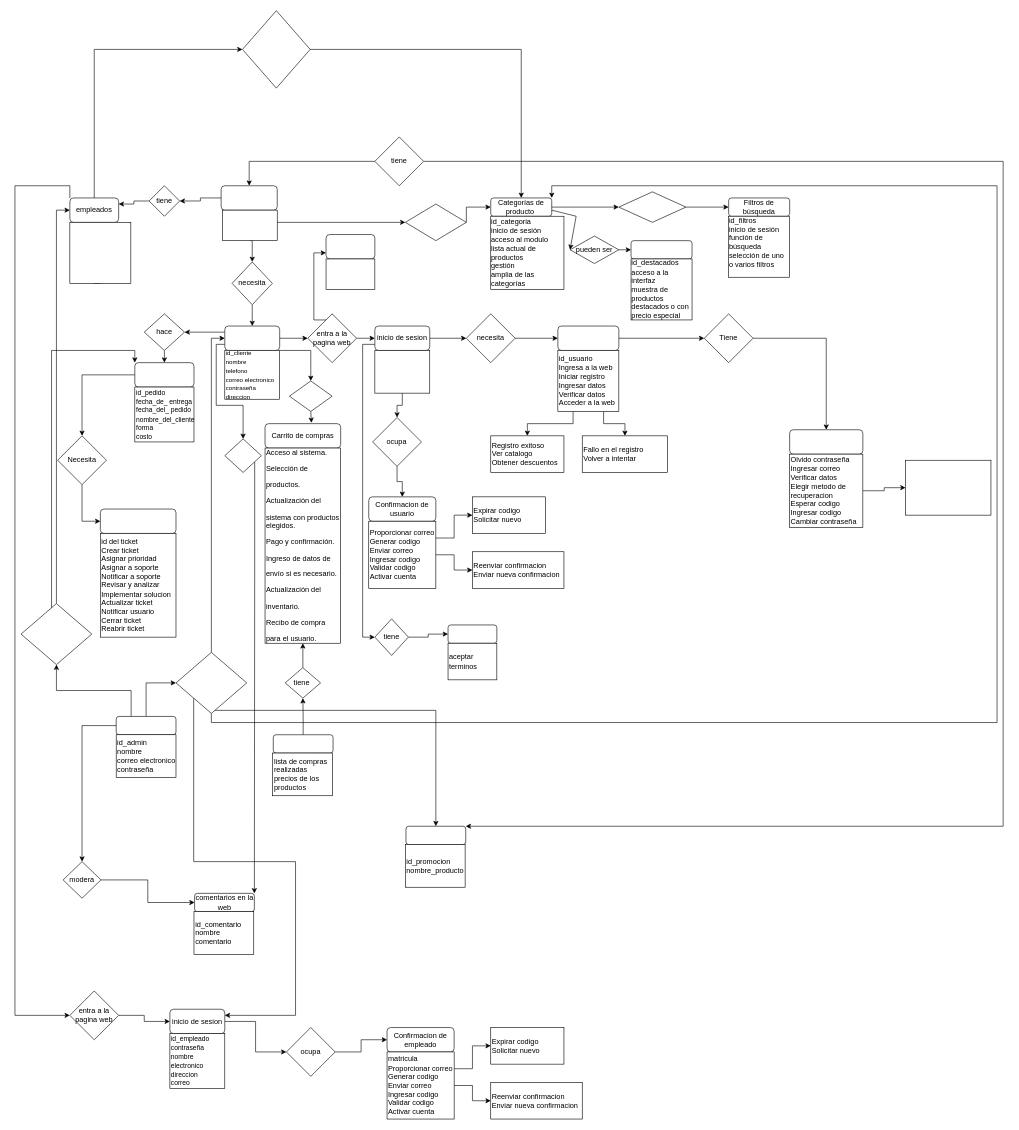
Image size: 1019x1130. Some labels were removed from this diagram. Here are the shapes that lost their labels. From the top down, the centre of each, then its label:
At point 276,49: "crea, actualiza o elimina".
At point 249,197: "chocolateria".
At point 652,206: "Se les aplican".
At point 249,225: "id_productos empleados".
At point 435,222: "Se clasifican".
At point 100,252: "id_empleado nombre puesto fecha de contratacion salario".
At point 350,246: "darse de alta".
At point 661,249: "Productos destacados".
At point 350,273: "ir ala chocolateria llenar el formulario".
At point 252,337: "cliente".
At point 588,337: "Registro de usuario".
At point 164,374: "pedidos".
At point 402,371: "id_correo contraseña nombre electronico direccion".
At point 310,395: "Tiene un".
At point 242,455: "comenta".
At point 826,441: "Recuperacion de usuario".
At point 948,487: "Recuperacion por Whatsapp Enviar codigo Verificar codigo Cambiar contraseña".
At point 138,520: "Impresion del ticket".
At point 56,634: "da seguimiento".
At point 472,633: "politica".
At point 211,682: "crea, modifica o elimina".
At point 146,725: "Administrador".
At point 303,743: "historia de compras".
At point 435,835: "promociones y descuentos".
